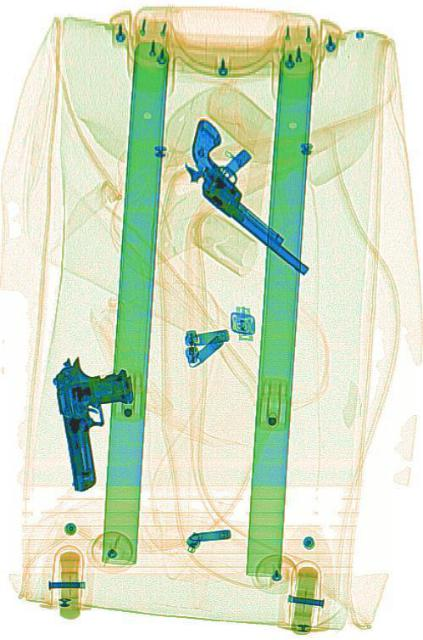Gun: (175, 113, 328, 279), (50, 341, 144, 495)
